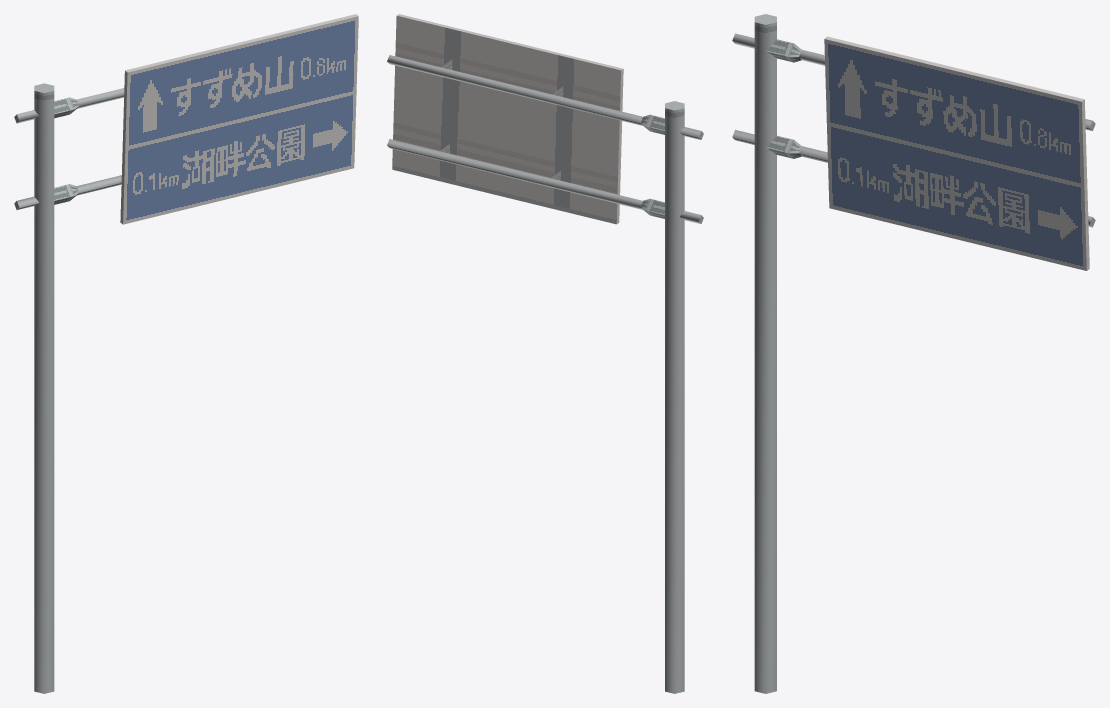
Rendered from 045c_Road_Sign.glb.
The picture shows the model from 3 angles, left to right: view 1: azimuth 30°, elevation 25°; view 2: azimuth 150°, elevation 25°; view 3: azimuth 330°, elevation 25°; orthographic projection. The views are drawn at different scales.
Parts seen in each view (by area): view 1: part_0; view 2: part_0; view 3: part_0.
Part boxes in pixels (x1,y1,x2,y2): part_0: (14, 14, 358, 693); part_0: (387, 14, 703, 693); part_0: (732, 14, 1095, 693).
Bounding box in the file's own units: 3.2 × 5.73 × 0.3464.
1 material, 1 textured.
